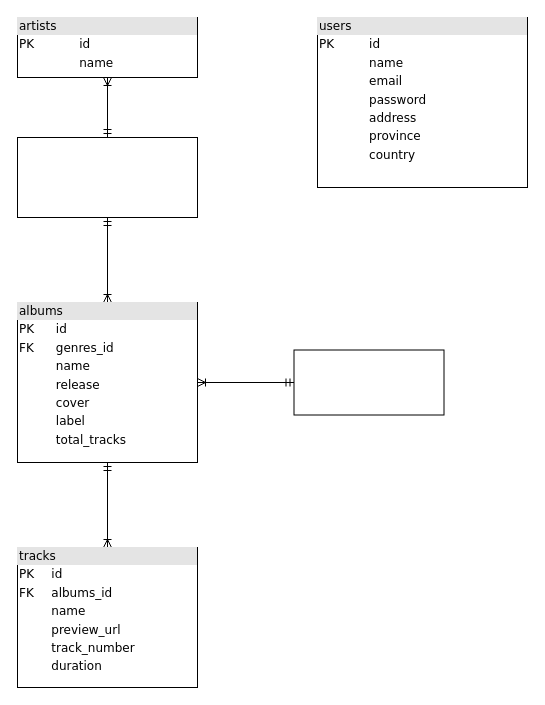
This 545x705 diagram has some shape labels left out. Here are the shapes that lost their labels. From the top down, the centre of each, then its label:
At (x=107, y=177): "artists_albums PK id FK artists_id FK albums_id".
At (x=368, y=382): "genres PK id name".
